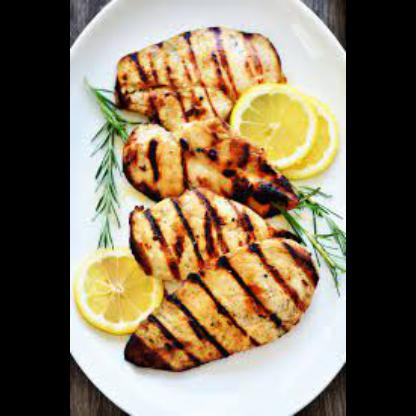grilled chicken breast: (124, 236, 320, 372), (112, 26, 286, 126), (121, 121, 300, 217), (129, 188, 305, 280)
